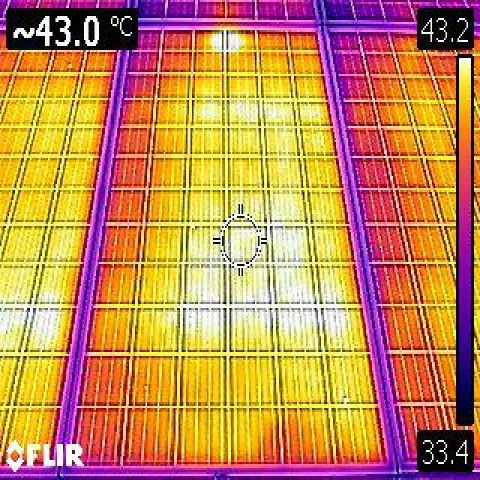fault: (210, 31, 240, 48)
